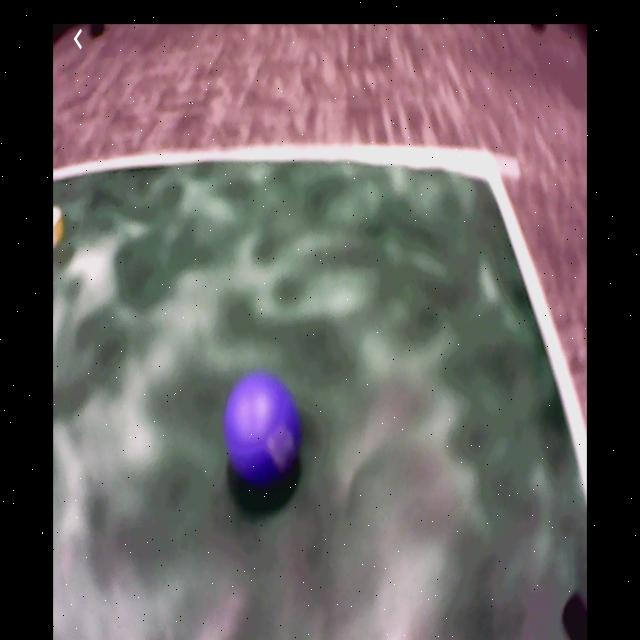ball: (226, 375, 301, 484)
